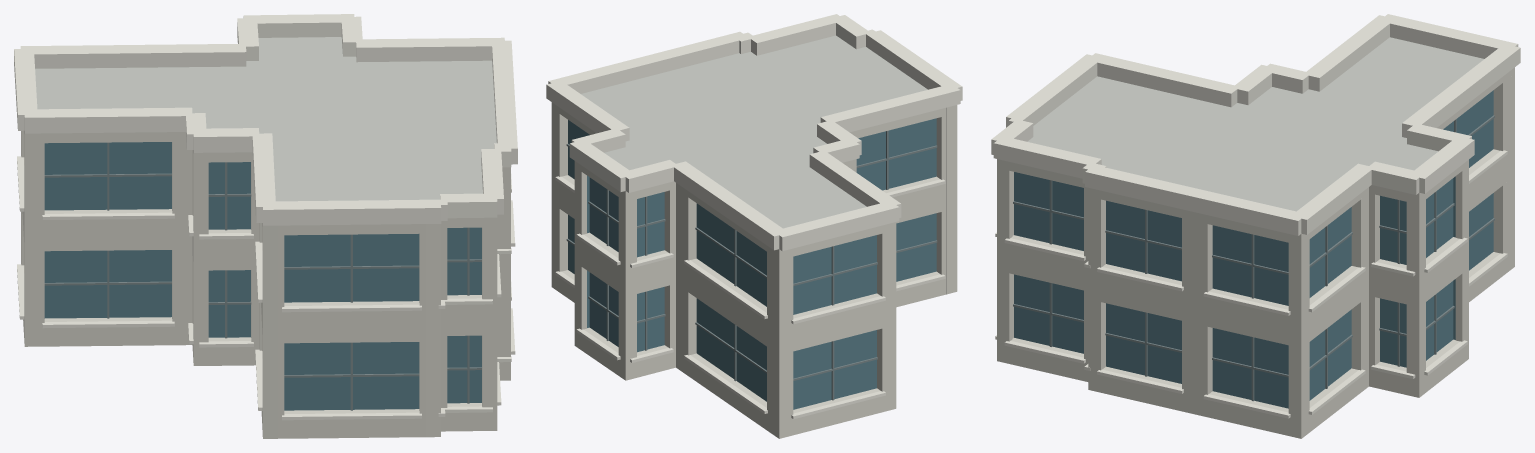
3 renders of one model, left to right at view 1: azimuth 30°, elevation 25°; view 2: azimuth 150°, elevation 25°; view 3: azimuth 270°, elevation 25°, orthographic. The views are drawn at different scales.
Parts seen in each view (by area): view 1: wall, glass, roof, trim, metal; view 2: wall, roof, trim, glass, metal; view 3: wall, glass, roof, trim, metal.
Boxes of the visible parts, x1,y1,x2,y2 form: wall: (21,130,510,438); glass: (44,142,481,410); roof: (35,37,496,201); trim: (14,14,517,420); metal: (44,142,481,410); wall: (551,102,957,438); roof: (581,35,927,228); trim: (546,14,962,419); glass: (568,118,936,409); metal: (566,130,937,400); wall: (997,67,1514,438); glass: (1014,90,1493,408); roof: (1027,37,1483,211); trim: (991,14,1520,418); metal: (1013,115,1494,401).
Bounding box in the file's own units: 12.98 × 6.44 × 14.03.
